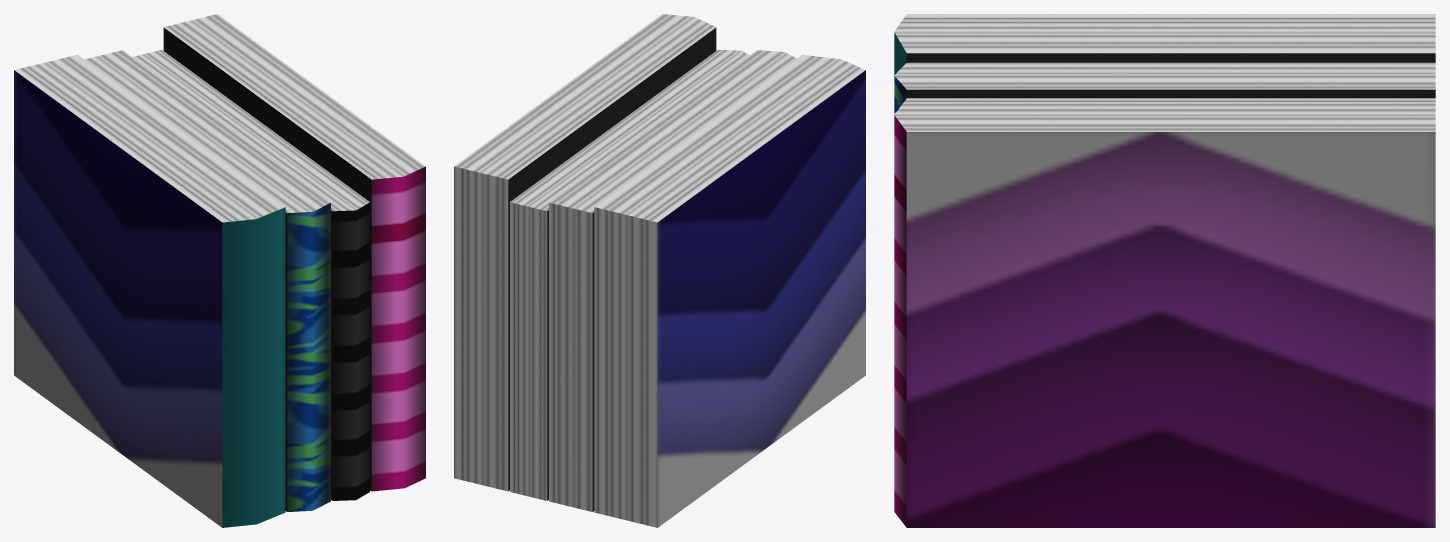
Rendered from Books_G.FBX.
The picture shows the model from 3 angles, left to right: view 1: azimuth 30°, elevation 25°; view 2: azimuth 150°, elevation 25°; view 3: azimuth 270°, elevation 25°; orthographic projection. The views are drawn at different scales.
Parts seen in each view (by area): view 1: Books_006; view 2: Books_006; view 3: Books_006.
Boxes of the visible parts, <box> form: Books_006: <box>14,14,425,527</box>; Books_006: <box>454,14,865,527</box>; Books_006: <box>894,14,1435,527</box>.
Bounding box in the file's own units: 36.67 × 53.71 × 66.54.
